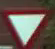Give way: (3, 4, 47, 46)
